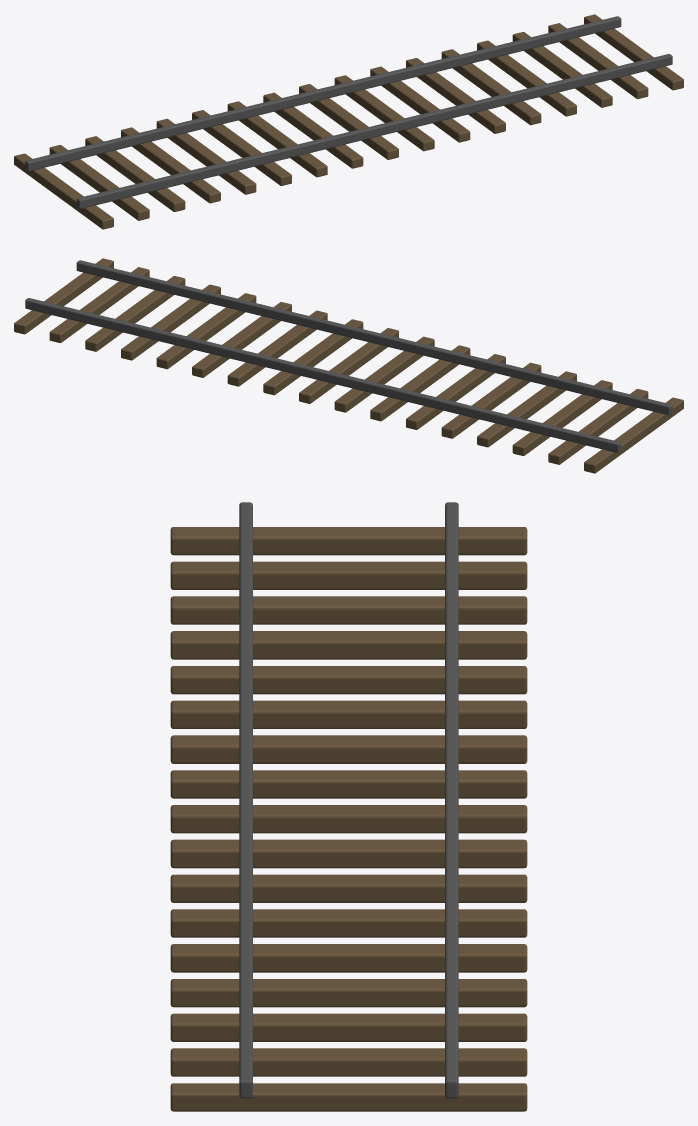
File: Track Mesh.fbx
3 renders of one model, top to bottom at view 1: azimuth 30°, elevation 25°; view 2: azimuth 150°, elevation 25°; view 3: azimuth 270°, elevation 25°, orthographic. The views are drawn at different scales.
Parts seen in each view (by area): view 1: Rail_Left, Rail_Right, Tie_1, Tie_13, Tie_5, Tie_11, Tie_10, Tie_8, Tie_12, Tie_15, Tie_3, Tie_7 (+7 smaller); view 2: Rail_Right, Rail_Left, Tie_1, Tie_13, Tie_5, Tie_11, Tie_10, Tie_8, Tie_12, Tie_15, Tie_3, Tie_7 (+7 smaller); view 3: Tie_17, Tie_10, Tie_1, Tie_11, Tie_12, Tie_13, Tie_14, Tie_16, Tie_3, Tie_4, Tie_7, Tie_8 (+7 smaller).
Part boxes in pixels (x1,y1,x2,y2): Rail_Left: [25, 16, 621, 171]; Rail_Right: [76, 54, 672, 208]; Tie_1: [14, 153, 113, 229]; Tie_13: [441, 49, 541, 125]; Tie_5: [156, 118, 256, 194]; Tie_11: [370, 66, 470, 142]; Tie_10: [334, 75, 434, 151]; Tie_8: [263, 92, 363, 168]; Tie_12: [406, 58, 505, 133]; Tie_15: [512, 32, 612, 107]; Tie_3: [85, 136, 185, 211]; Tie_7: [227, 101, 327, 177]; Rail_Right: [76, 260, 672, 415]; Rail_Left: [25, 298, 621, 452]; Tie_1: [584, 397, 683, 473]; Tie_13: [156, 293, 256, 369]; Tie_5: [441, 362, 541, 438]; Tie_11: [227, 310, 327, 386]; Tie_10: [263, 319, 363, 395]; Tie_8: [334, 336, 434, 412]; Tie_12: [192, 302, 291, 377]; Tie_15: [85, 276, 185, 351]; Tie_3: [512, 380, 612, 455]; Tie_7: [370, 345, 470, 421]; Tie_17: [170, 1083, 527, 1111]; Tie_10: [170, 839, 527, 868]; Tie_1: [170, 527, 527, 555]; Tie_11: [170, 874, 527, 902]; Tie_12: [170, 909, 527, 937]; Tie_13: [170, 944, 527, 972]; Tie_14: [170, 979, 527, 1007]; Tie_16: [170, 1048, 527, 1076]; Tie_3: [170, 596, 527, 624]; Tie_4: [170, 631, 527, 659]; Tie_7: [170, 735, 527, 763]; Tie_8: [170, 770, 527, 798].
Size of the model in its own units: 1000 by 30 by 260.
